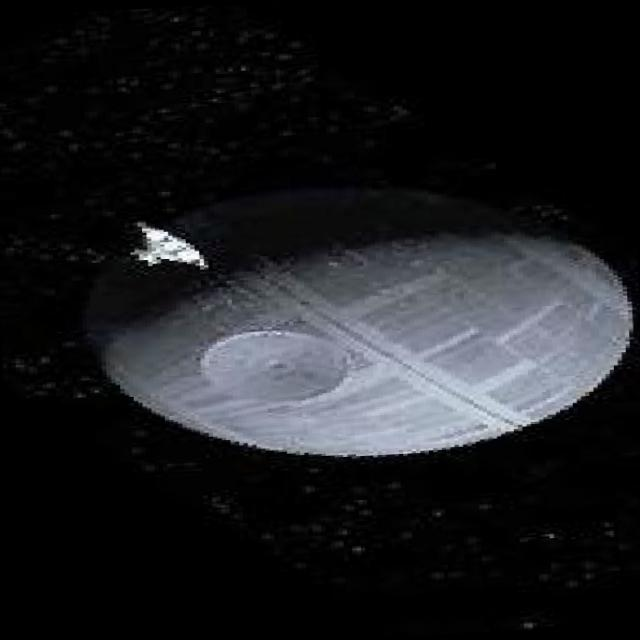Death Star: (69, 163, 640, 482)
